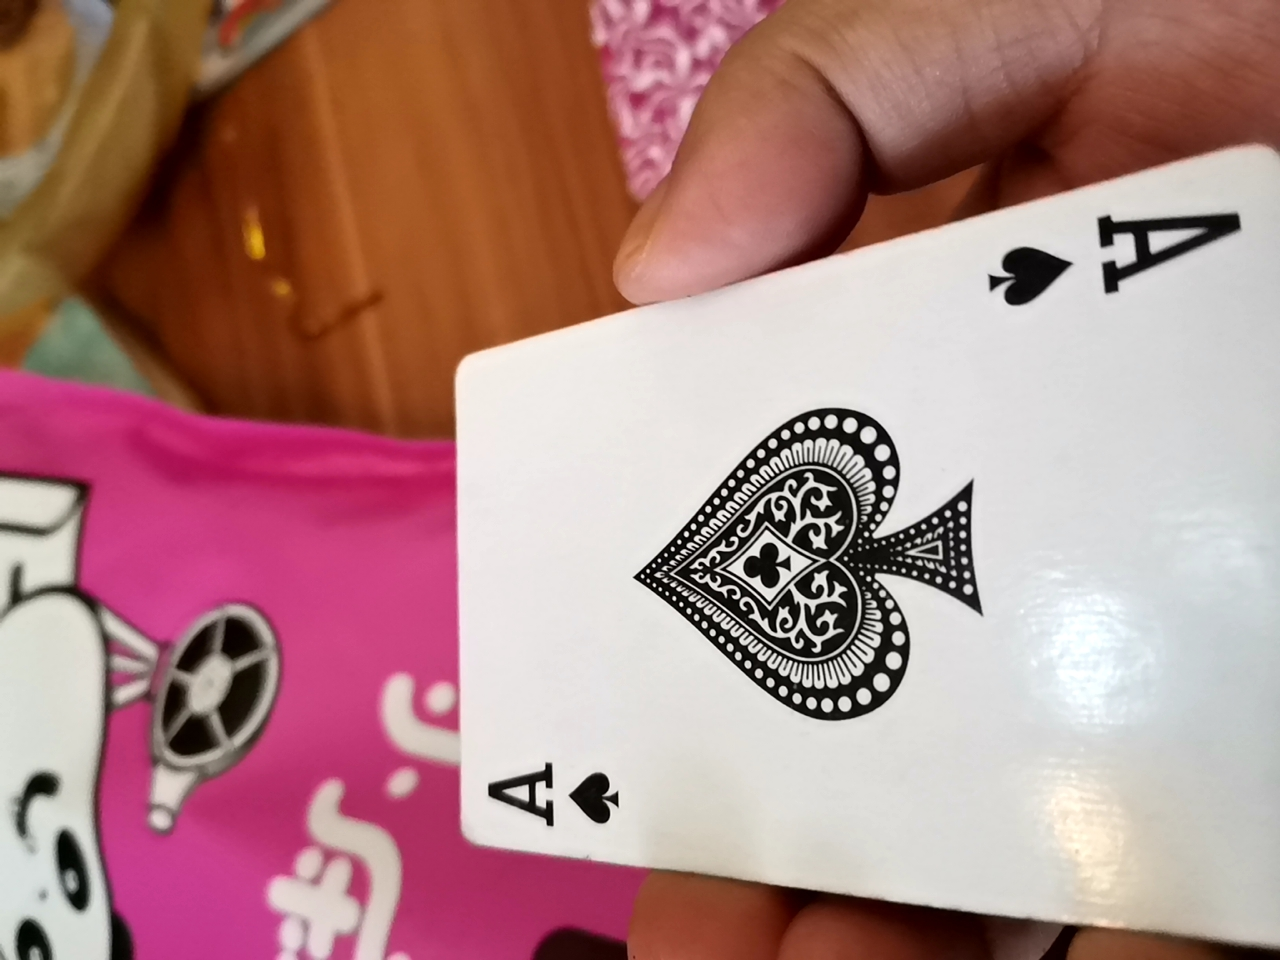ht a: (402, 128, 1270, 937)
